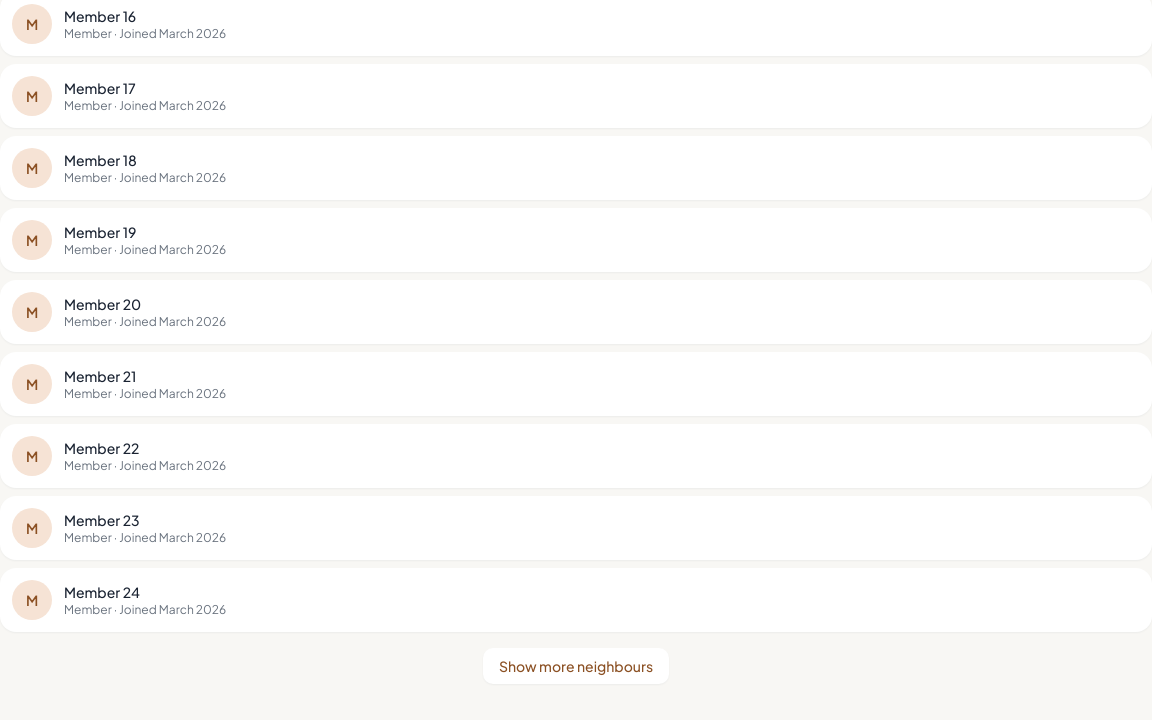
Test: Neighbors listing › offers more, and appends the next page rather than replacing it
The width and height of the screenshot is (1152, 720).
(page scrolled)
Click the button "Show more neighbours": (576, 666) top-left (483, 648), bottom-right (669, 684)
(page scrolled)
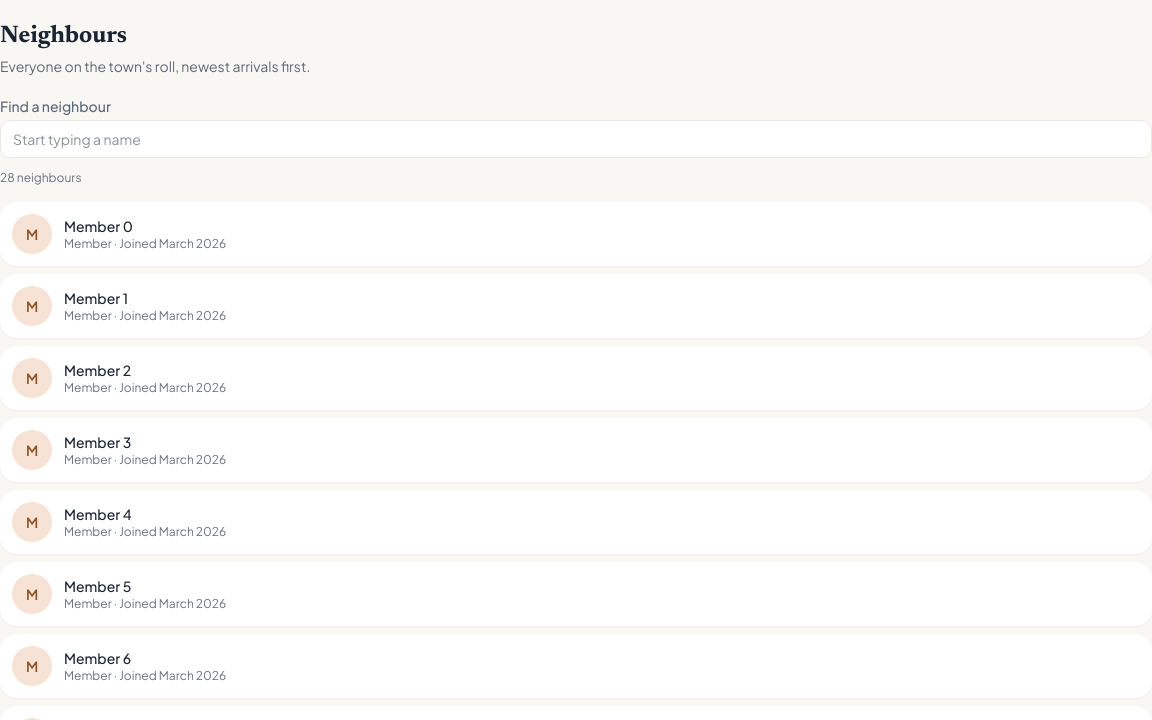
Expected: the text "Member 0" is shown, top-left (64, 217), bottom-right (133, 235)
Result: the number of list items is 28
